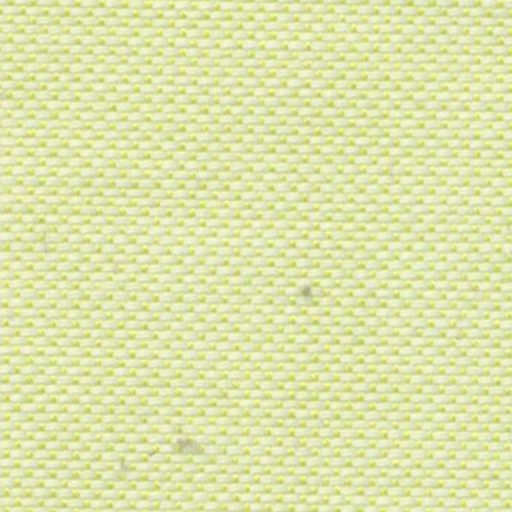WuZi: (153, 418, 220, 466), (285, 267, 328, 310)
